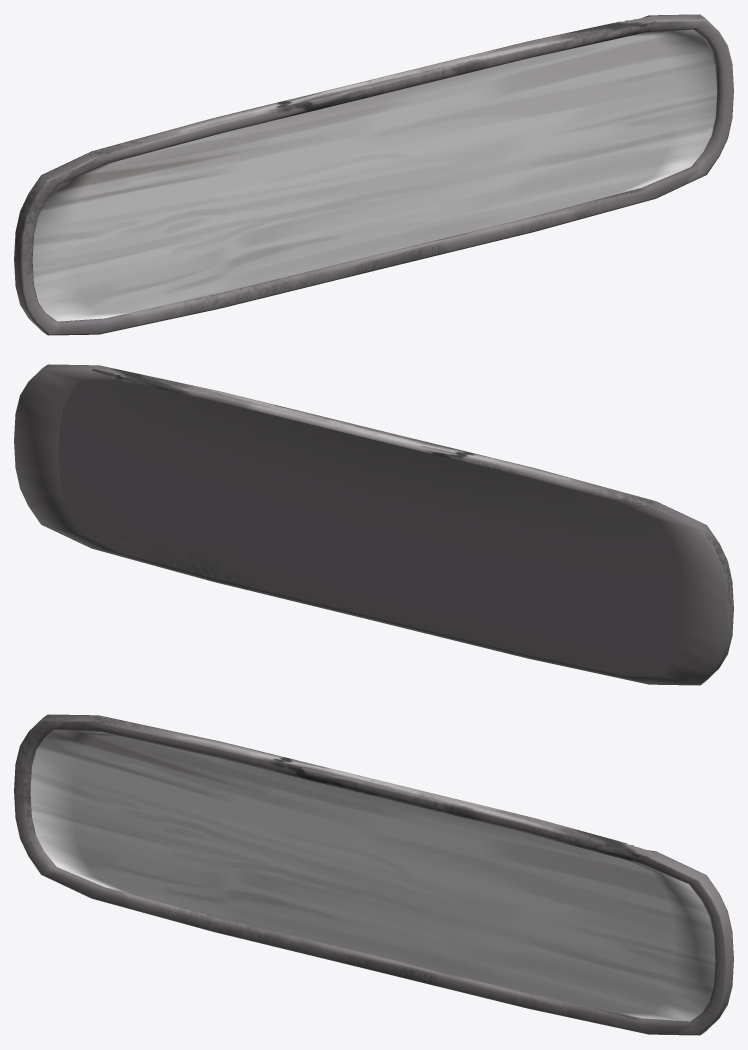
Rendered from doorplate.fbx.
The picture shows the model from 3 angles, top to bottom: view 1: azimuth 30°, elevation 25°; view 2: azimuth 150°, elevation 25°; view 3: azimuth 330°, elevation 25°; orthographic projection.
Visible parts, largest first — view 1: Box001; view 2: Box001; view 3: Box001.
Boxes of the visible parts, box(x1,y1,x2,y2) form: Box001: box(14, 14, 733, 335); Box001: box(14, 364, 733, 685); Box001: box(14, 714, 733, 1035).
Size of the model in its own units: 28.75 by 7.16 by 0.5286.
